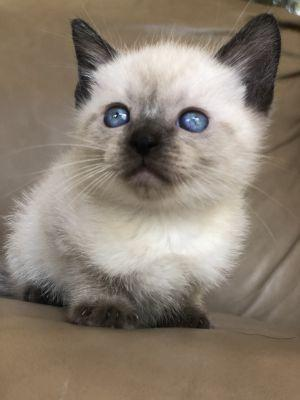siamese: (58, 1, 283, 221)
